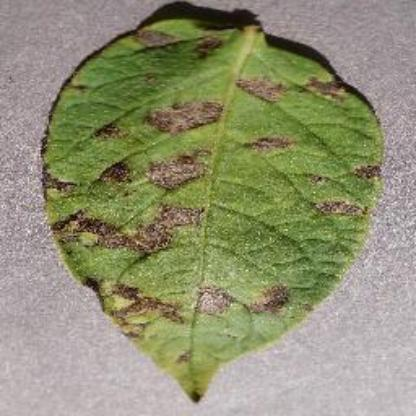Early-Blight: (35, 0, 389, 404)
